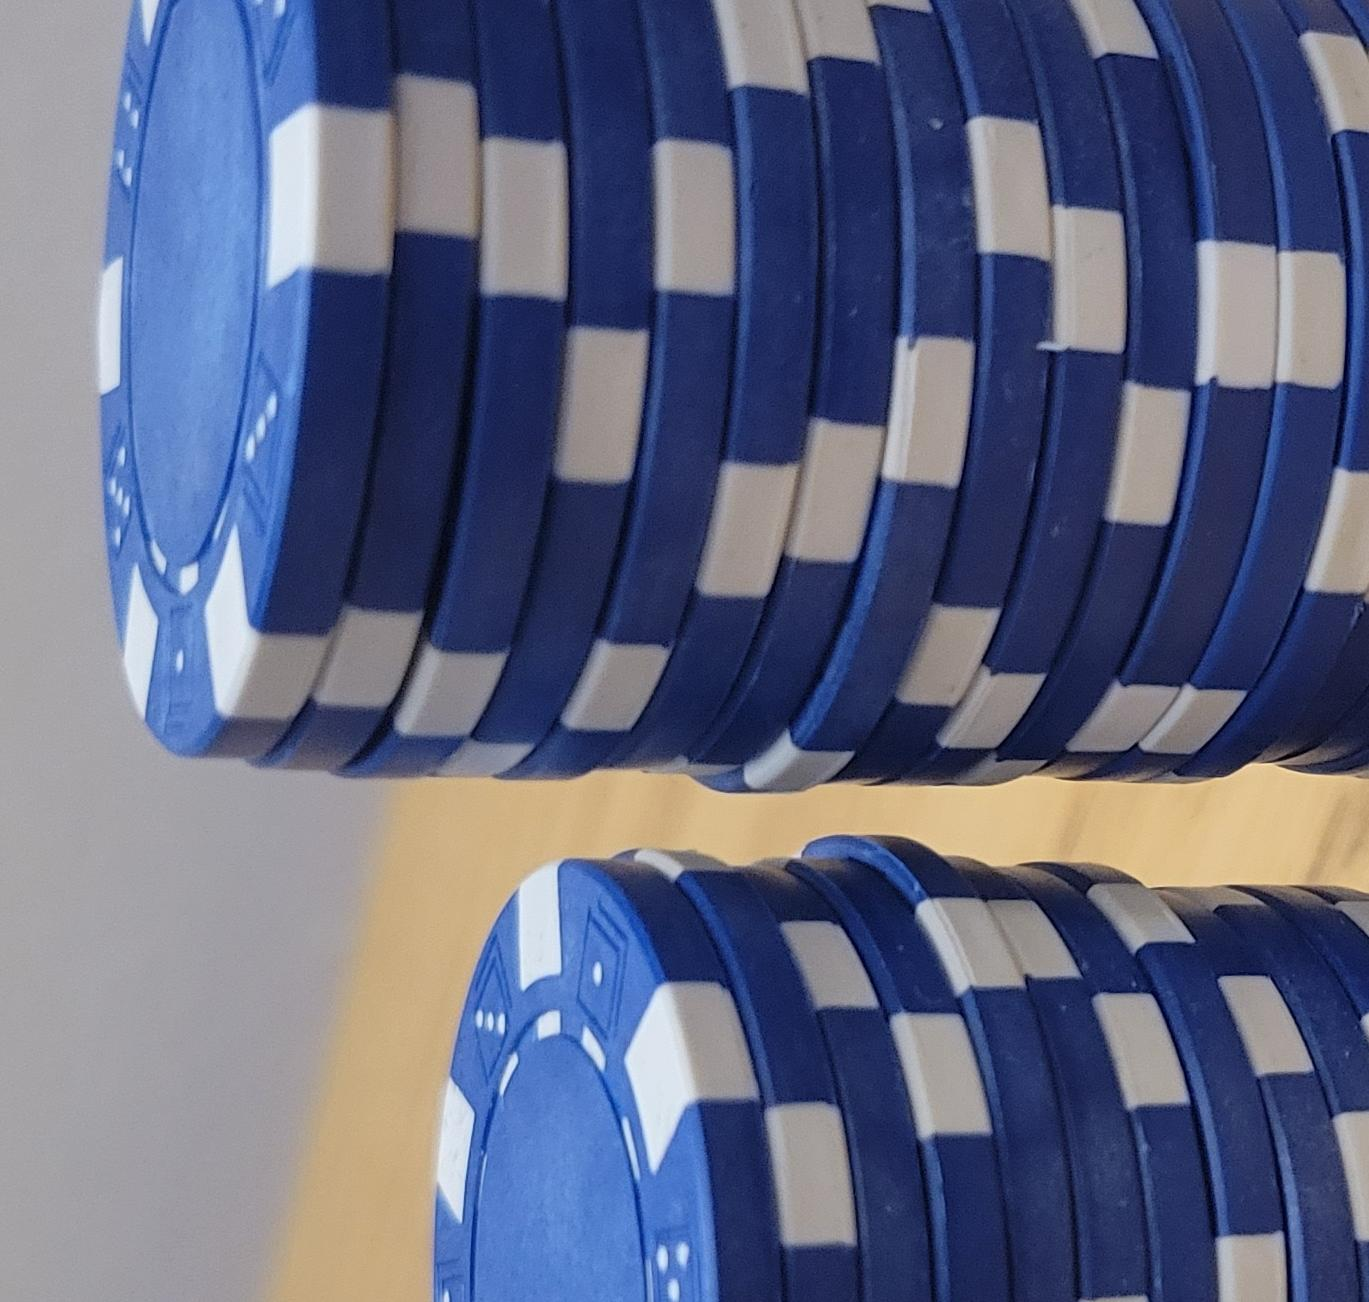Chip: (1, 243, 867, 1302)
